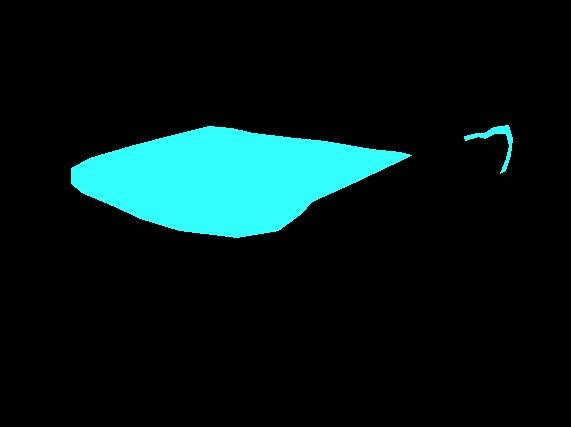Flaking: (71, 126, 411, 237), (464, 125, 512, 173)
